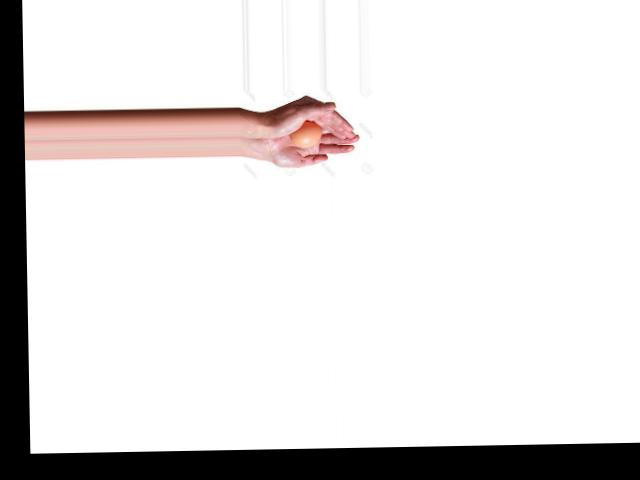egg: (291, 120, 322, 146)
